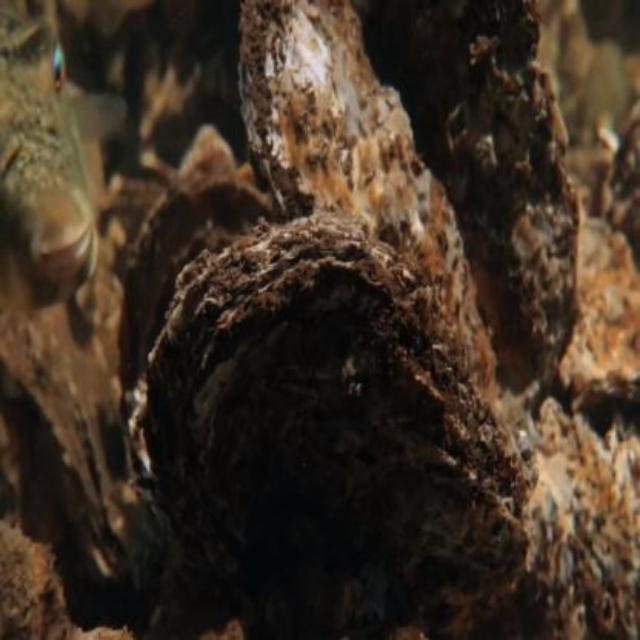Oyster-Closed: (133, 215, 536, 596), (245, 0, 499, 389), (345, 0, 582, 373), (0, 302, 158, 581)
Oyster-Open: (116, 176, 281, 425)
